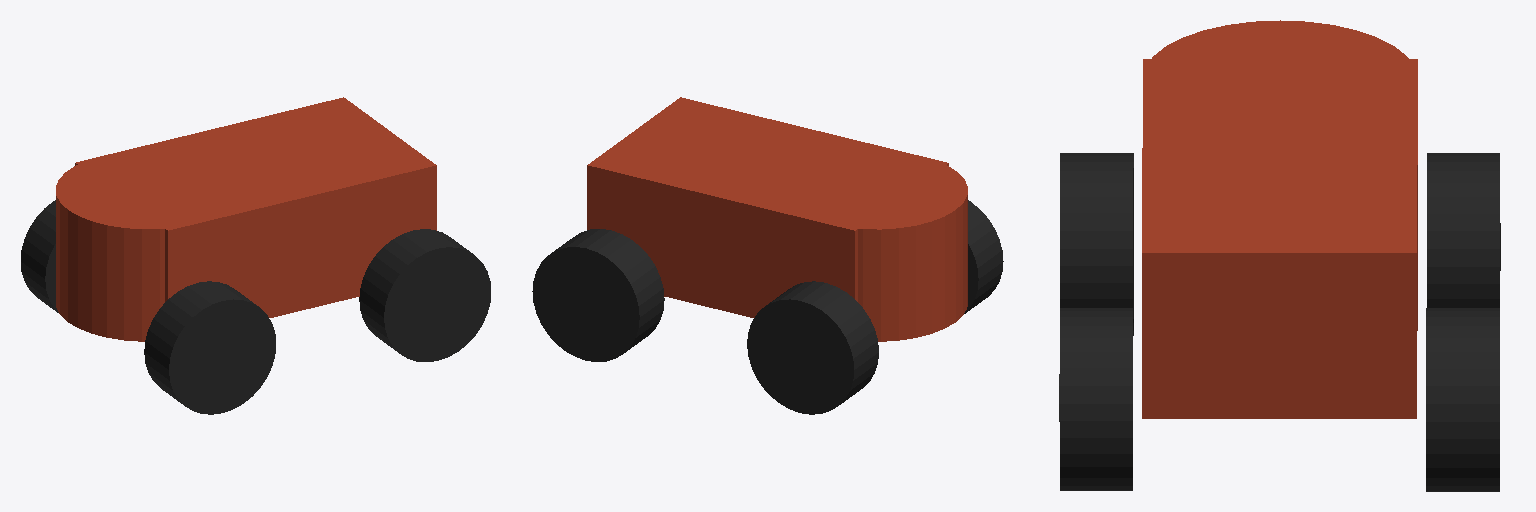
robot.urdf — car:
<?xml version="1.0" ?>
<robot name="car">
  <material name="ColorChassi">
    <color rgba="0.7 0.3 0.2 1.0"/>
  </material>
  <material name="ColorWheel">
    <color rgba="0.2 0.2 0.2 1.0"/>
  </material>
  <link name="world"/>
  <link name="empty_link_x"/>
  <link name="empty_link_y"/>

  <link name="chassi">
   <inertial>
     <mass value="1"/>
     <inertia ixx="0.0566666666667" ixy="0" ixz="0" iyy="0.0741666666667" iyz="0" izz="0.0241666666667"/>
   </inertial>
   <visual>
     <origin rpy="0 0 0" xyz="0 0 0.1"/>
     <geometry>
       <box size="0.5 0.3 0.2"/>
     </geometry>
      <material name="ColorChassi"/>
   </visual>
   <collision>
     <origin rpy="0 0 0" xyz="0 0 0.1"/>
     <geometry>
       <box size="0.5 0.3 0.2"/>
     </geometry>
      <material name="ColorChassi"/>
   </collision>
  </link>

  <link name="frontspoiler">
   <inertial>
     <mass value="1"/>
     <inertia ixx="0.0189583333333" ixy="0" ixz="0" iyy="0.0189583333333" iyz="0" izz="0.015625"/>
   </inertial>
   <visual>
     <origin rpy="0 0 0" xyz="0.2 0 0.1"/>
     <geometry>
       <cylinder length="0.2" radius="0.15"/>
     </geometry>
     <material name="ColorChassi"/>
   </visual>
   <collision>
     <origin rpy="0 0 0" xyz="0.4 0 0.1"/>
     <geometry>
       <cylinder length="0.2" radius="0.15"/>
     </geometry>
     <material name="ColorChassi"/>
   </collision>
  </link>

  <joint name="joint_translation_x" type="prismatic">
    <origin xyz="-0.0 -0.0 0.0" rpy="0 0 3.14"/>
    <axis xyz="1 0 0"/>
    <parent link="world"/>
    <child link="empty_link_x"/>
    <limit effort="1" lower="-5.0" upper="5.0" velocity="1"/>
  </joint>
  <joint name="joint_translation_y" type="prismatic">
    <origin xyz="0 0 0" rpy="0 0 0"/>
    <axis xyz="0 1 0"/>
    <parent link="empty_link_x"/>
    <child link="empty_link_y"/>
    <limit effort="1" lower="-5.0" upper="5.0" velocity="1"/>
  </joint>
  <joint name="joint_rotation_yaw" type="continuous">
    <origin xyz="0 0 0.05" rpy="0 0 0"/>
    <axis xyz="0 0 1"/>
    <parent link="empty_link_y"/>
    <child link="chassi"/>
  </joint>

   <link name="wheel1">
    <inertial>
      <mass value="1"/>
      <inertia ixx="0.0118666666667" ixy="0" ixz="0" iyy="0.00936666666667" iyz="0" izz="0.00416666666667"/>
    </inertial>
    <visual>
      <origin rpy="0 0 0" xyz="0 0 0"/>
      <geometry>
        <cylinder radius="0.1" length="0.08"/>
      </geometry>
      <material name="ColorWheel"/>
    </visual>
    <collision>
      <origin rpy="0 0 0" xyz="0 0 0"/>
      <geometry>
        <cylinder radius="0.1" length="0.08"/>
      </geometry>
      <material name="ColorWheel"/>
    </collision>
   </link>

   <link name="wheel2">
    <inertial>
      <mass value="1"/>
      <inertia ixx="0.0118666666667" ixy="0" ixz="0" iyy="0.00936666666667" iyz="0" izz="0.00416666666667"/>
    </inertial>
    <visual>
      <origin rpy="0 0 0" xyz="0 0 0"/>
      <geometry>
        <cylinder radius="0.1" length="0.08"/>
      </geometry>
      <material name="ColorWheel"/>
    </visual>
    <collision>
      <origin rpy="0 0 0" xyz="0 0 0"/>
      <geometry>
        <cylinder radius="0.1" length="0.08"/>
      </geometry>
      <material name="ColorWheel"/>
    </collision>
   </link>

   <link name="wheel3">
    <inertial>
      <mass value="1"/>
      <inertia ixx="0.0118666666667" ixy="0" ixz="0" iyy="0.00936666666667" iyz="0" izz="0.00416666666667"/>
    </inertial>
    <visual>
      <origin rpy="0 0 0" xyz="0 0 0"/>
      <geometry>
        <cylinder radius="0.1" length="0.08"/>
      </geometry>
      <material name="ColorWheel"/>
    </visual>
    <collision>
      <origin rpy="0 0 0" xyz="0 0 0"/>
      <geometry>
        <cylinder radius="0.1" length="0.08"/>
      </geometry>
      <material name="ColorWheel"/>
    </collision>
   </link>

   <link name="wheel4">
    <inertial>
      <mass value="1"/>
      <inertia ixx="0.0118666666667" ixy="0" ixz="0" iyy="0.00936666666667" iyz="0" izz="0.00416666666667"/>
    </inertial>
    <visual>
      <origin rpy="0 0 0" xyz="0 0 0"/>
      <geometry>
        <cylinder radius="0.1" length="0.08"/>
      </geometry>
      <material name="ColorWheel"/>
    </visual>
    <collision>
      <origin rpy="0 0 0" xyz="0 0 0"/>
      <geometry>
        <cylinder radius="0.1" length="0.08"/>
      </geometry>
      <material name="ColorWheel"/>
    </collision>
   </link>

  <joint name="joint_chassi_wheel1" type="fixed">
    <origin rpy="1.57 0 0" xyz="+0.2 +0.2 0"/>
    <parent link="chassi"/>
    <child link="wheel1"/>
  </joint>

  <joint name="joint_chassi_wheel2" type="fixed">
    <origin rpy="1.57 0 0" xyz="+0.2 -0.2 0"/>
    <parent link="chassi"/>
    <child link="wheel2"/>
  </joint>

  <joint name="joint_chassi_wheel3" type="fixed">
    <origin rpy="1.57 0 0" xyz="-0.2 +0.2 0"/>
    <parent link="chassi"/>
    <child link="wheel3"/>
  </joint>

  <joint name="joint_chassi_wheel4" type="fixed">
    <origin rpy="1.57 0 0" xyz="-0.2 -0.2 0"/>
    <parent link="chassi"/>
    <child link="wheel4"/>
  </joint>

  <joint name="joint_chassi_frontspoiler" type="fixed">
    <origin rpy="0 0 0" xyz="0 0 0"/>
    <parent link="chassi"/>
    <child link="frontspoiler"/>
  </joint>

</robot>

--- Facts derived from the render (not from the file) ---
Views: 3 orthographic renders of the robot side by side, from view 1: azimuth 30°, elevation 25°; view 2: azimuth 150°, elevation 25°; view 3: azimuth 270°, elevation 25°.
Model car with 9 links and 8 joints (1 continuous, 2 prismatic, 5 fixed), rooted at world, posed all joints at 0.
Visible links, largest first — view 1: chassi, frontspoiler, wheel3, wheel1, wheel2; view 2: chassi, frontspoiler, wheel4, wheel2, wheel1; view 3: chassi, frontspoiler, wheel4, wheel3, wheel1, wheel2.
Link boxes in pixels (x1,y1,x2,y2): chassi: [75, 97, 436, 317]; frontspoiler: [56, 151, 240, 341]; wheel3: [359, 229, 490, 361]; wheel1: [144, 281, 275, 414]; wheel2: [21, 200, 58, 312]; chassi: [587, 97, 948, 317]; frontspoiler: [783, 151, 967, 341]; wheel4: [532, 229, 664, 361]; wheel2: [747, 281, 878, 414]; wheel1: [964, 200, 1003, 313]; chassi: [1142, 59, 1417, 418]; frontspoiler: [1144, 20, 1417, 136]; wheel4: [1426, 308, 1499, 491]; wheel3: [1059, 308, 1132, 490]; wheel1: [1060, 153, 1133, 335]; wheel2: [1427, 153, 1500, 307].
Bounding box of the posed robot: 0.6504 × 0.481 × 0.3 m (x, y, z).
Geometry: primitives only (box / cylinder / sphere), no mesh files.
